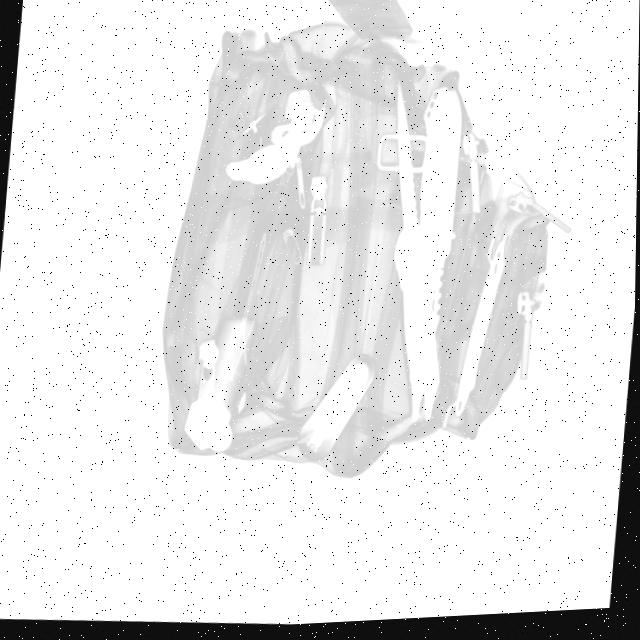knife: (406, 88, 472, 402)
